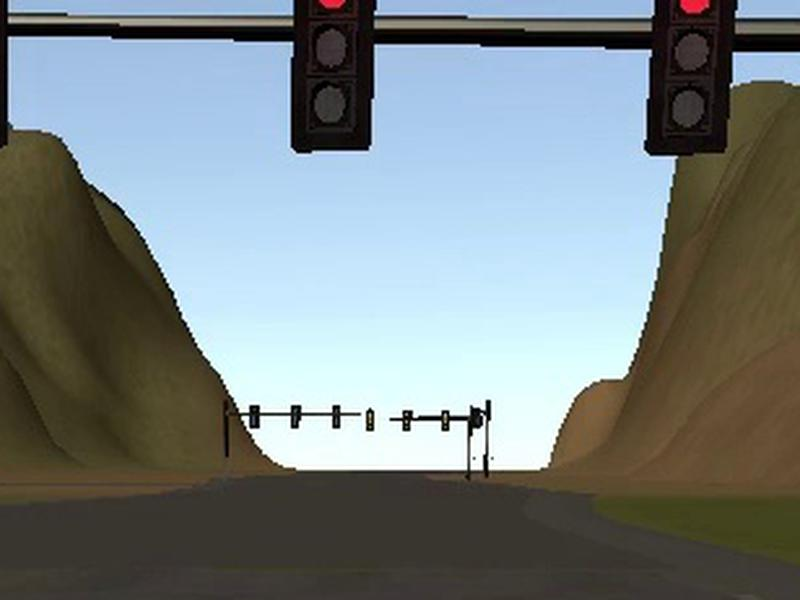Red: (647, 1, 737, 156), (290, 1, 376, 153)
